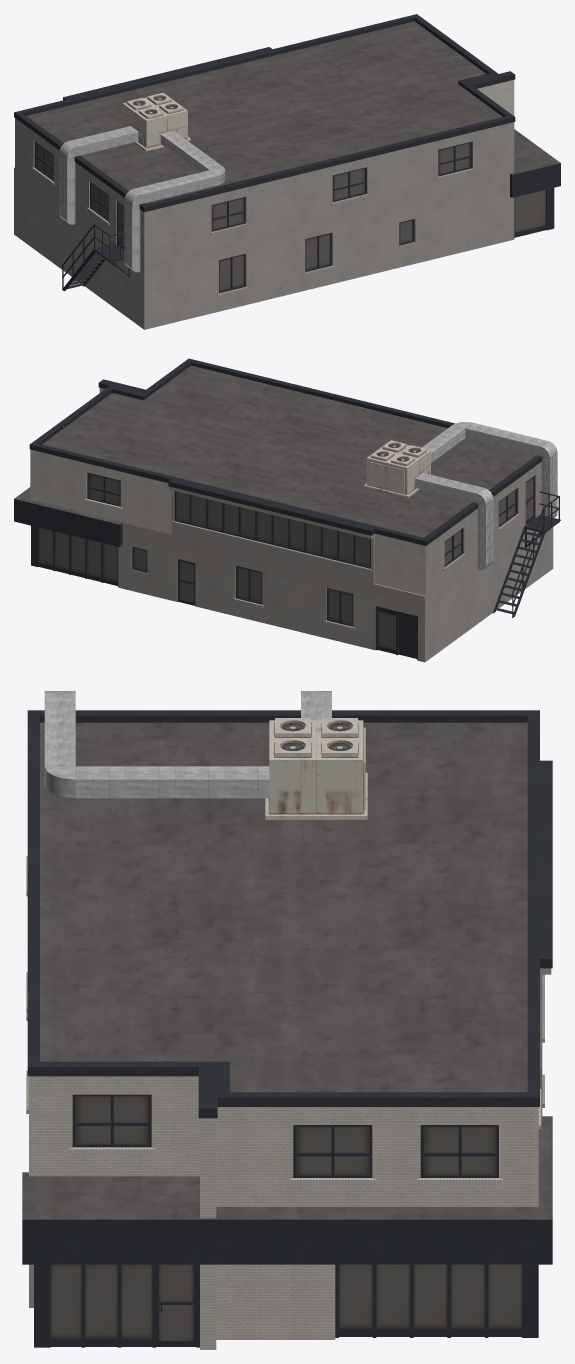
File: building_office2.glb
The picture shows the model from 3 angles, top to bottom: view 1: azimuth 30°, elevation 25°; view 2: azimuth 150°, elevation 25°; view 3: azimuth 270°, elevation 25°; orthographic projection. The views are drawn at different scales.
Visible parts, largest first — view 1: Office; view 2: Office; view 3: Office.
Boxes of the visible parts, x1,y1,x2,y2 form: Office: (14, 14, 560, 329); Office: (14, 358, 560, 662); Office: (22, 691, 552, 1349).
Bounding box in the file's own units: 32.04 × 10.61 × 17.14.
2 materials, 2 textured.
